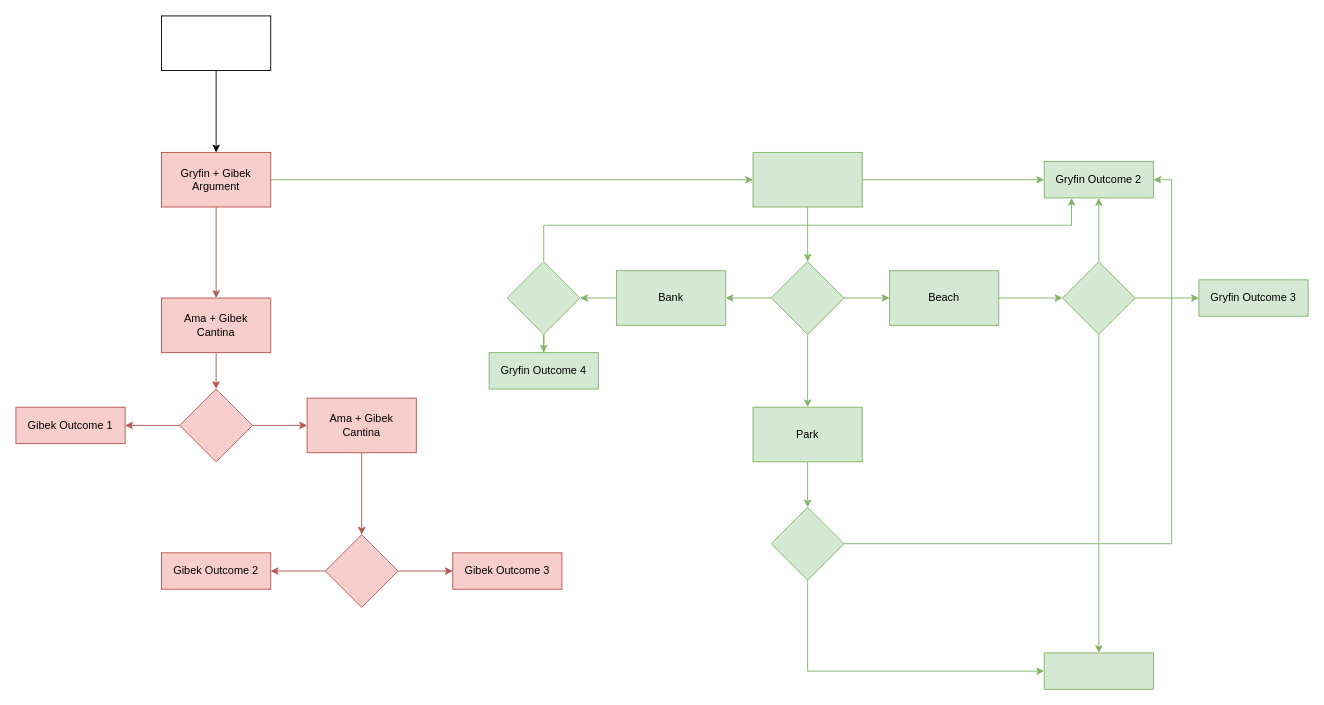
Image size: 1324x705. Some labels were removed from this diagram. The shapes that lost their labels are listed below. From the top down, each one's centre as x and y in pixels, then its label:
At point 216,43: "Start".
At point 807,179: "Shopping with Gryfin".
At point 1098,670: "Gryfin Outcome 1".
